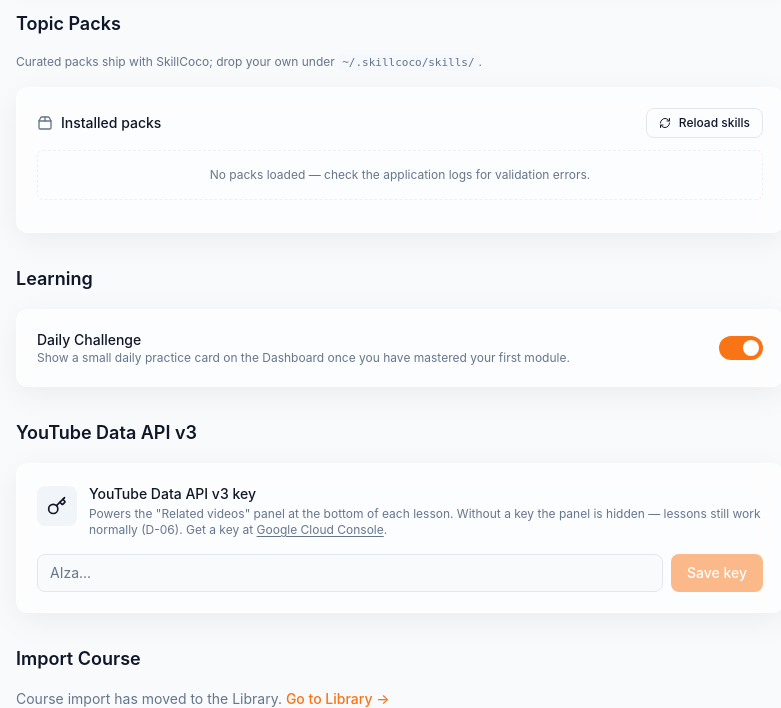
Test: Settings › Daily Challenge toggle › IPC failure rolls back local state and surfaces error text
(page scrolled)
Click the switch with test id "daily-challenge-toggle" at (741, 348), box [719,336,763,360]
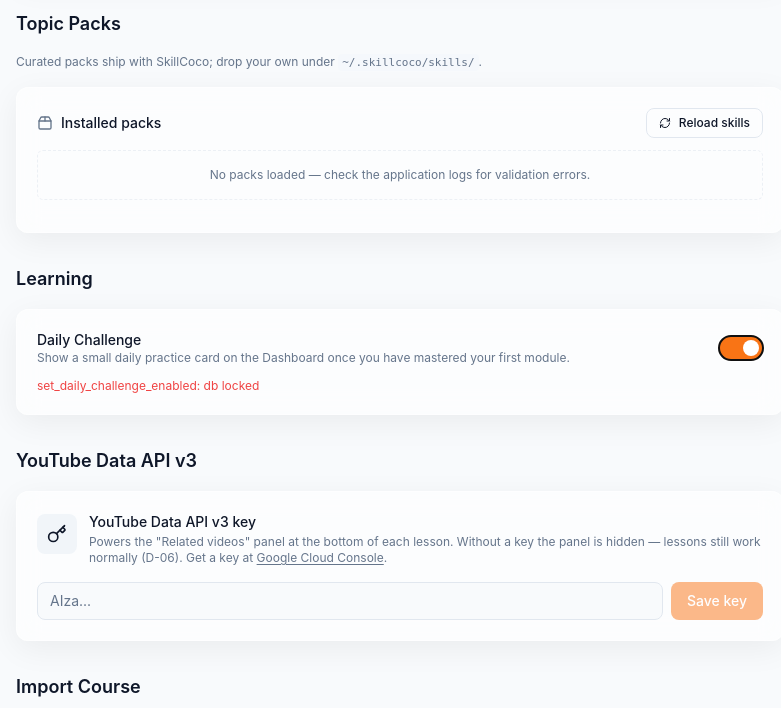
Expected: the text "set_daily_challenge_enabled: db locked" is shown, [37,378,259,393]
